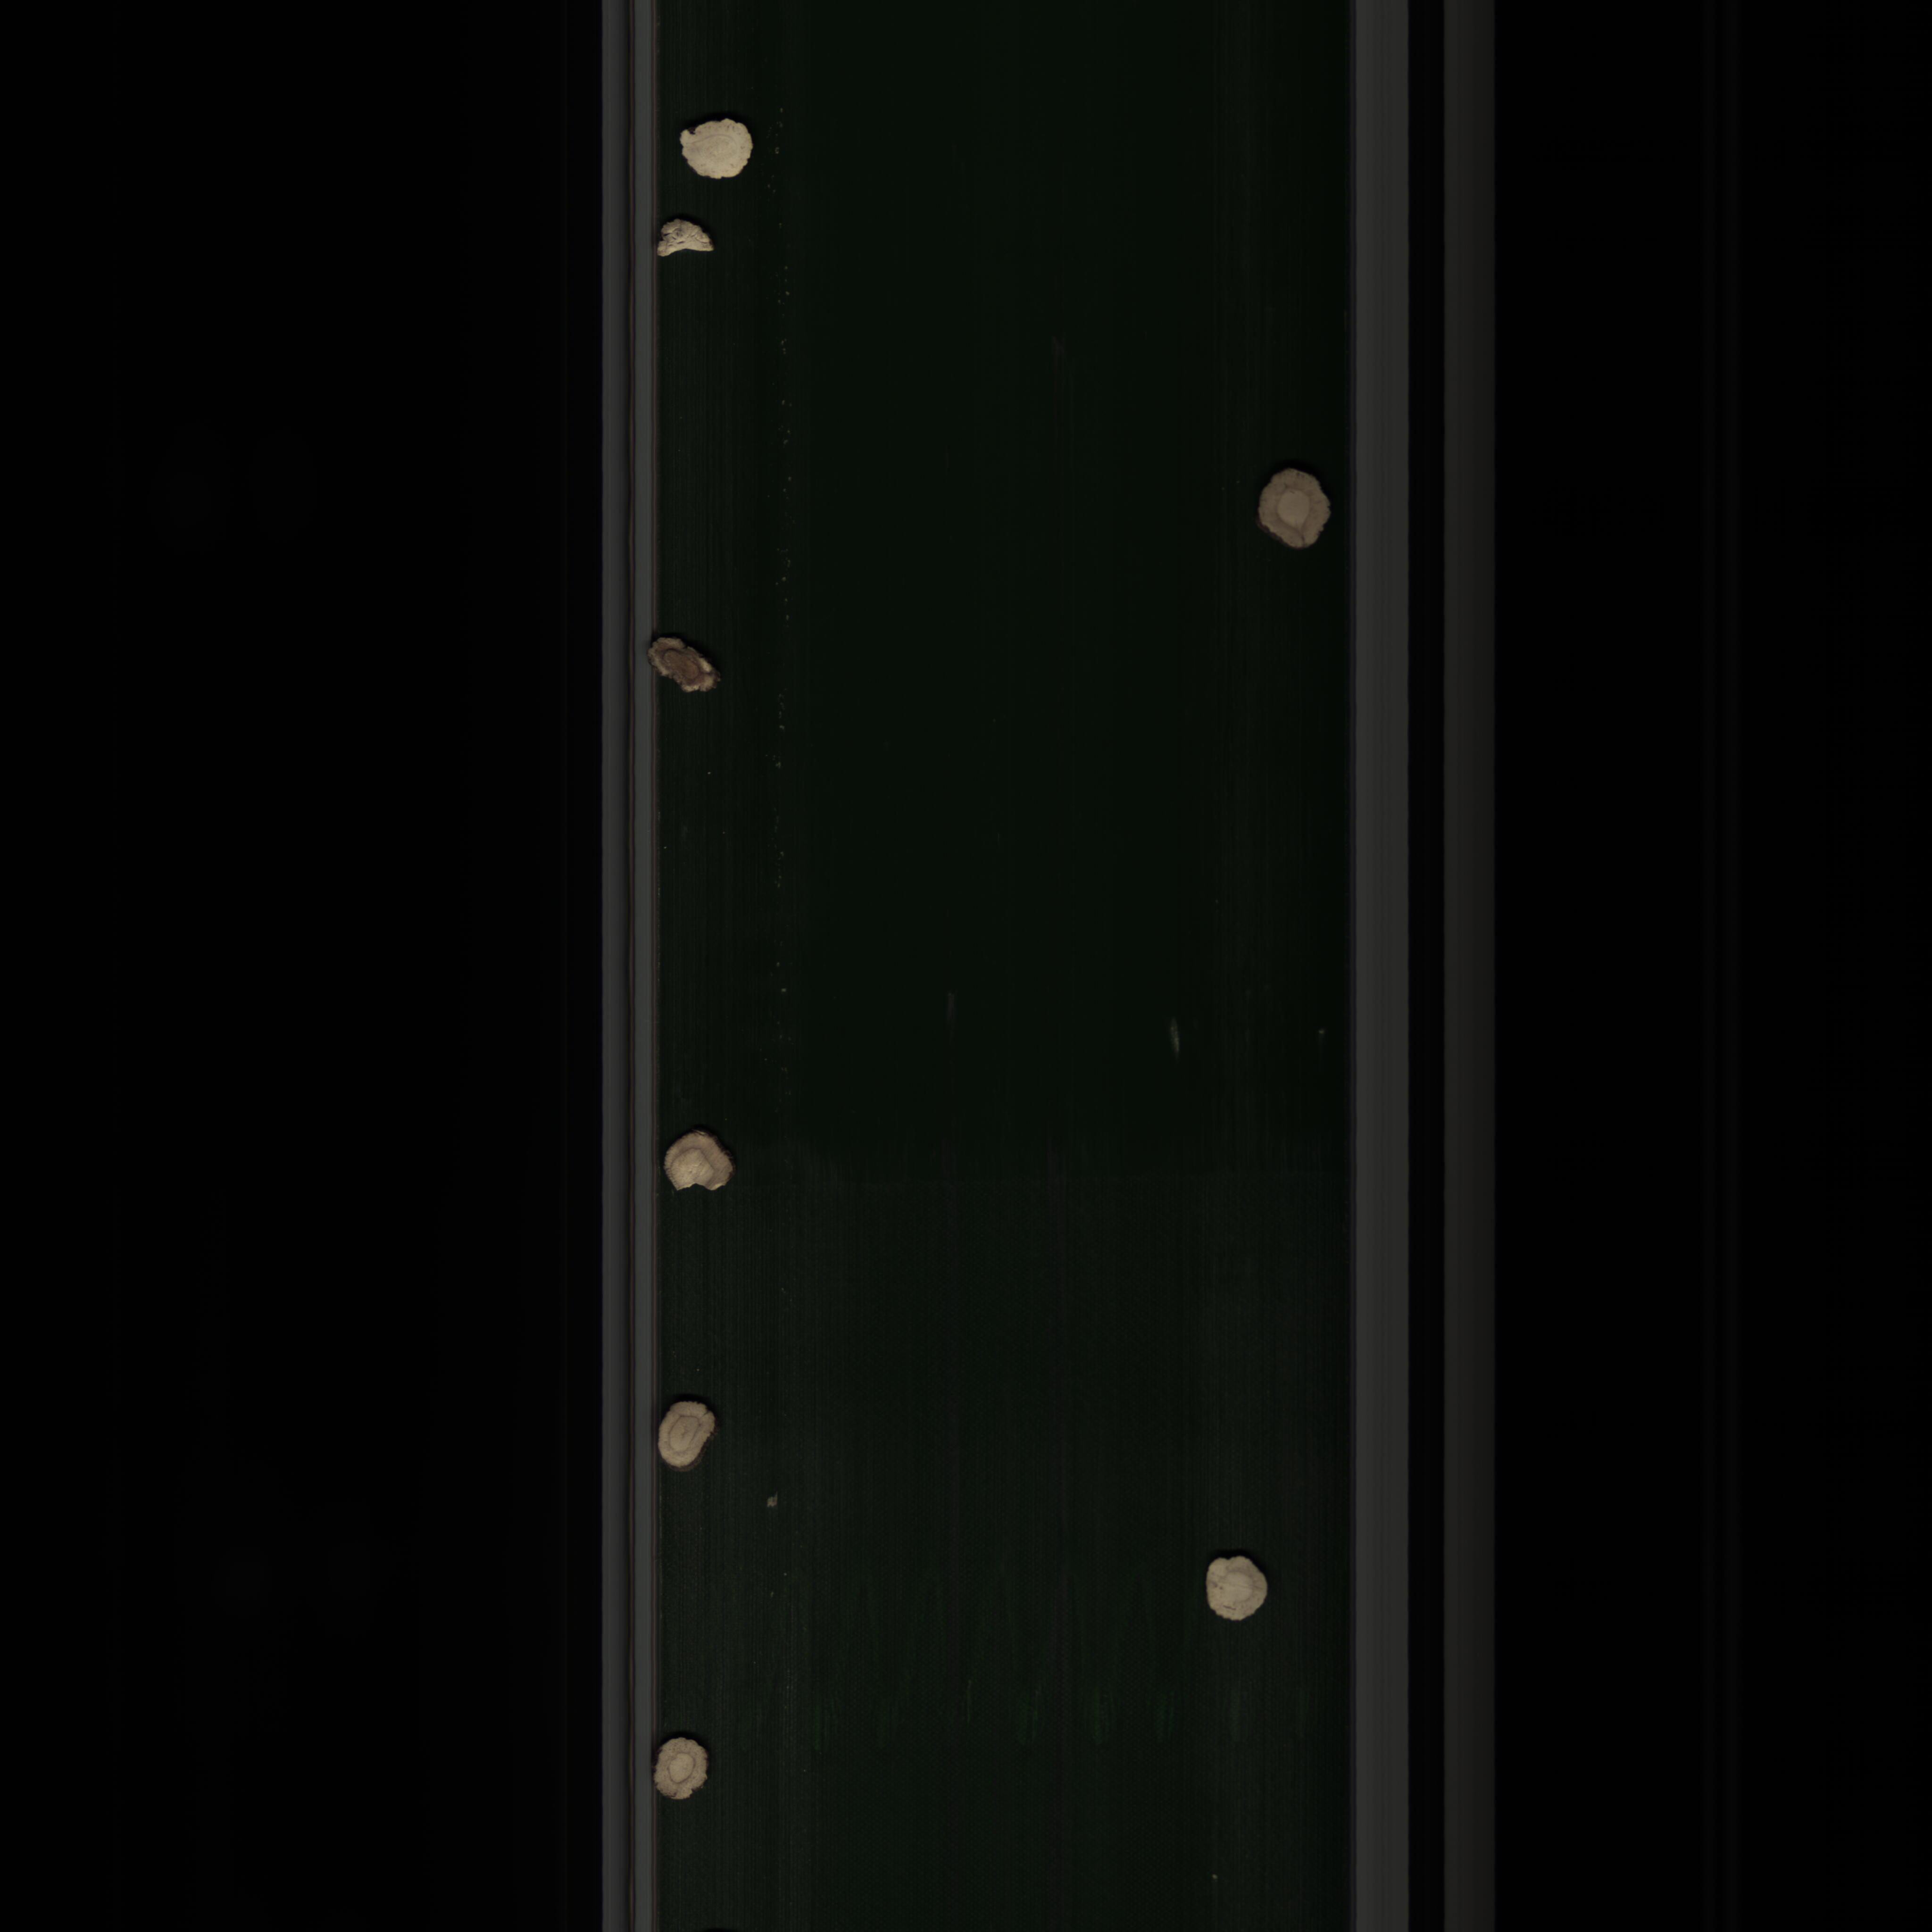debris: (656, 1129, 743, 1192), (655, 216, 720, 262)
moldy: (1240, 458, 1336, 561), (640, 632, 725, 697)
